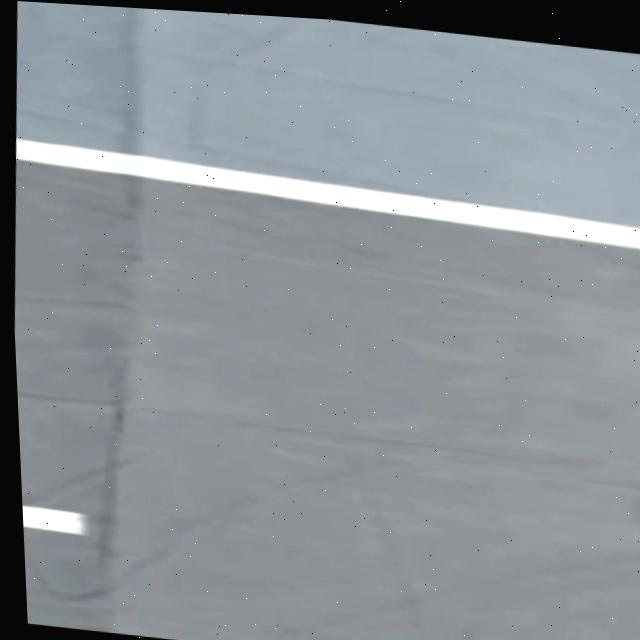center: (22, 505, 86, 534)
left: (15, 139, 640, 248)
